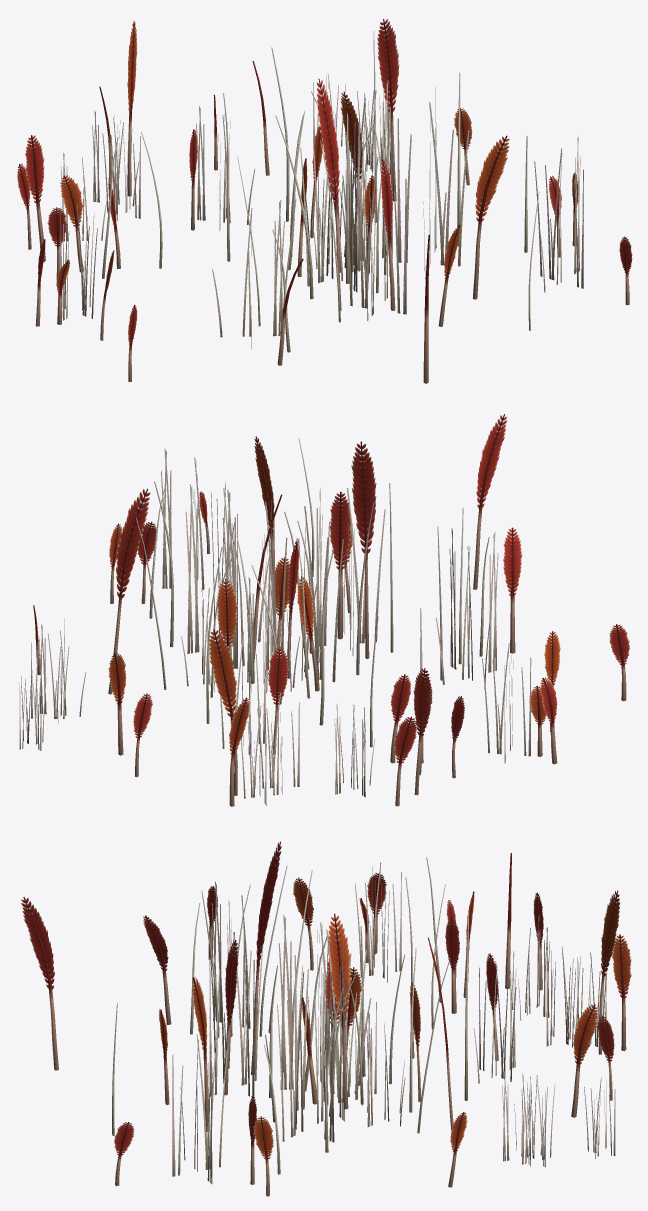
Rendered from SM_SeaPen_A.fbx.
The picture shows the model from 3 angles, top to bottom: view 1: azimuth 30°, elevation 25°; view 2: azimuth 150°, elevation 25°; view 3: azimuth 270°, elevation 25°; orthographic projection. The views are drawn at different scales.
Visible parts, largest first — view 1: MSH_SeaPen_A_LOD0; view 2: MSH_SeaPen_A_LOD0; view 3: MSH_SeaPen_A_LOD0.
Boxes of the visible parts, left/top/right/bottom form: MSH_SeaPen_A_LOD0: left=17, top=19, right=632, bottom=383; MSH_SeaPen_A_LOD0: left=19, top=414, right=629, bottom=806; MSH_SeaPen_A_LOD0: left=21, top=841, right=631, bottom=1196.
Size of what is drawn, in the model's own units: 1.27 by 0.5581 by 1.37.
